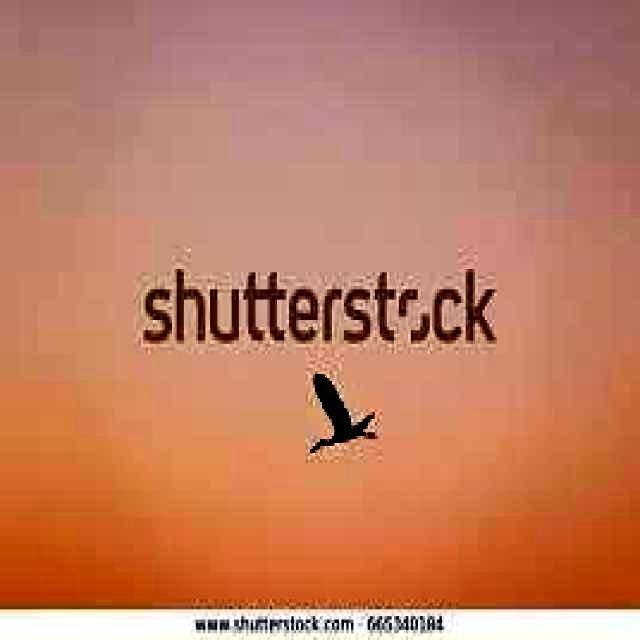bird: (302, 368, 378, 457)
